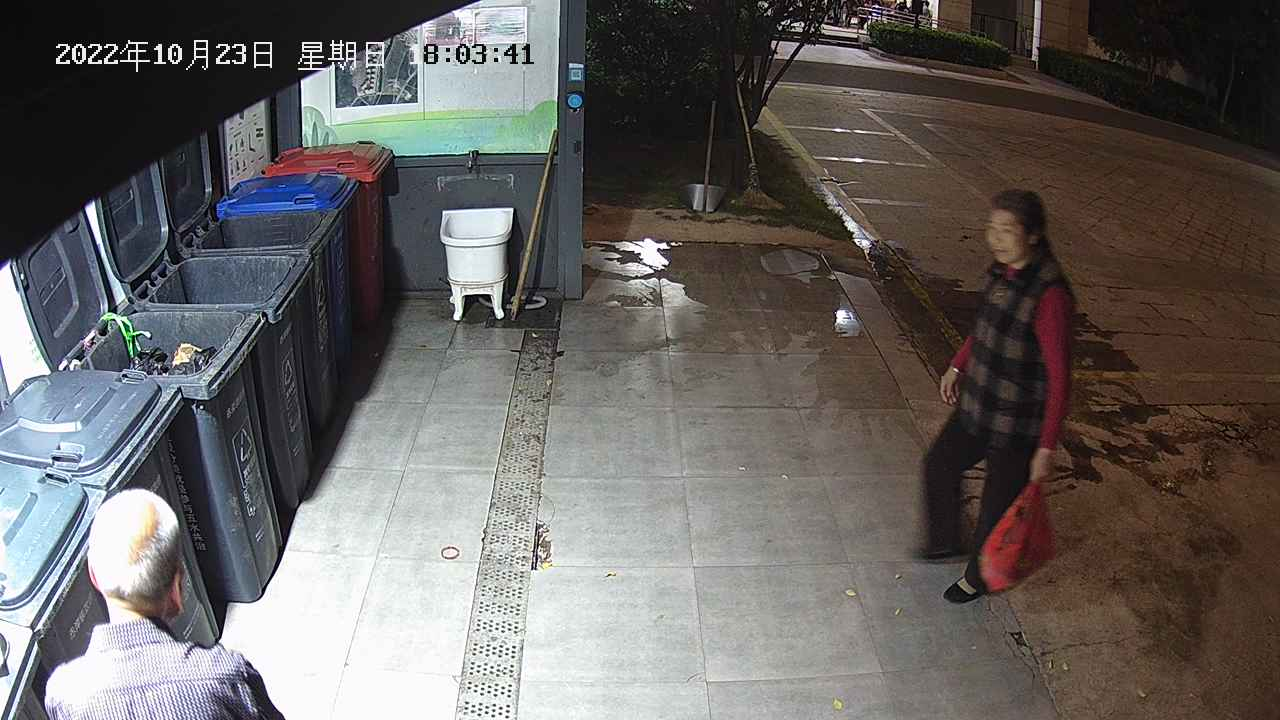garbage-bag: (974, 478, 1062, 595)
person: (905, 187, 1079, 608)
